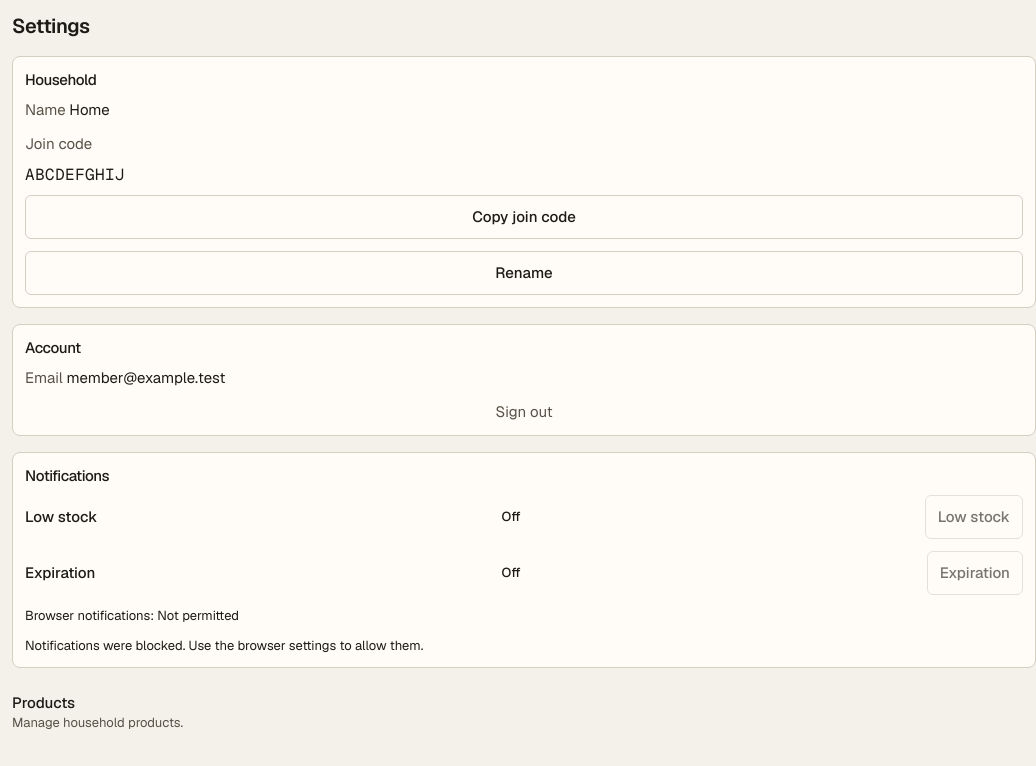
Test case: HouseholdSettingsScreen › copies the join code and shows Copied.
Expected: the text "ABCDEFGHIJ" is shown, [25,164,125,185]
Click the button "Copy join code" at (524, 217), box [25,195,1023,239]
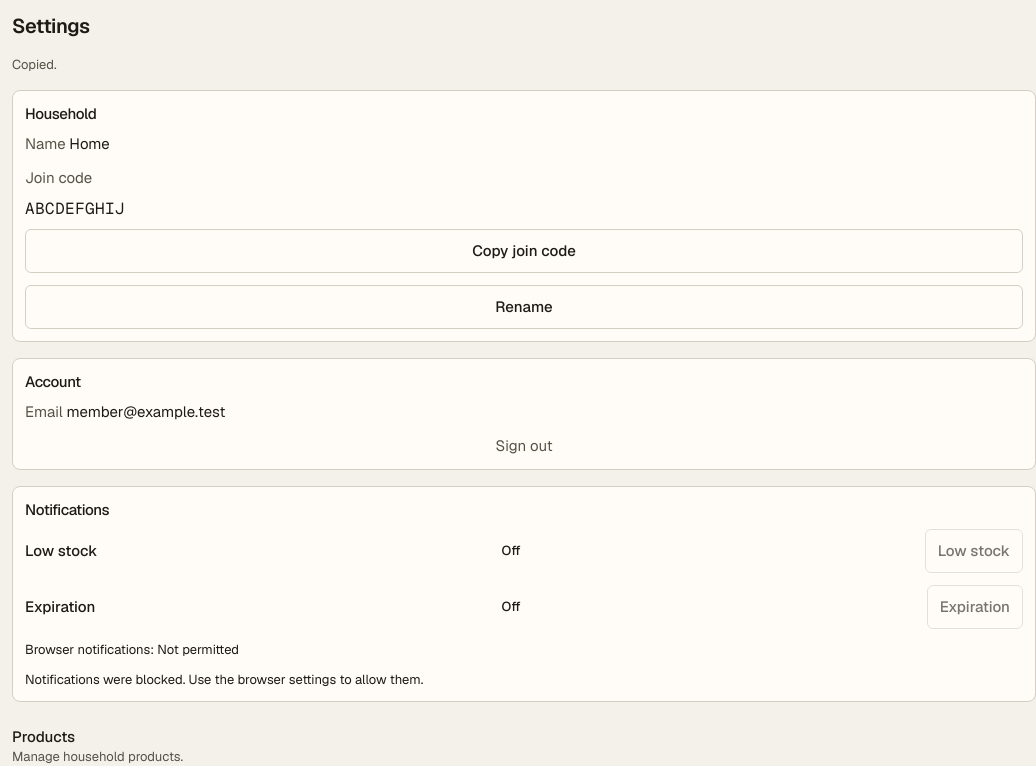
Expected: the message reads "Copied.", [12,56,56,73]
